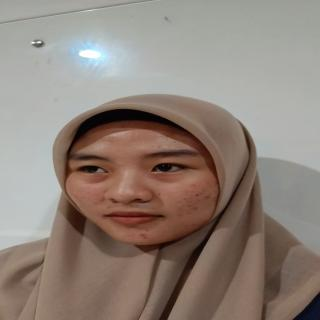Netral: (55, 108, 240, 251)
